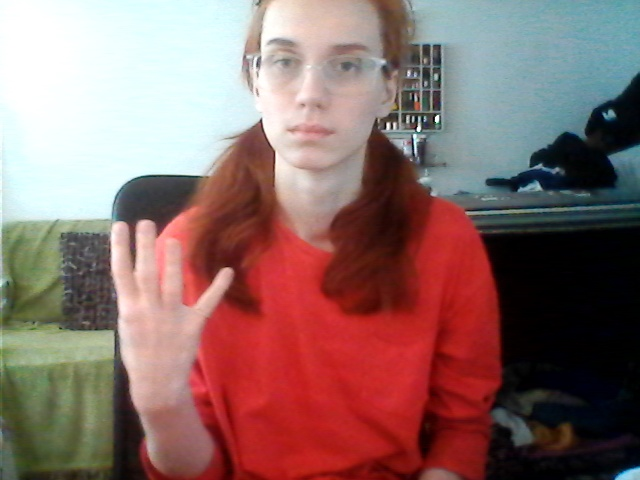kedy: (84, 215, 247, 408)
